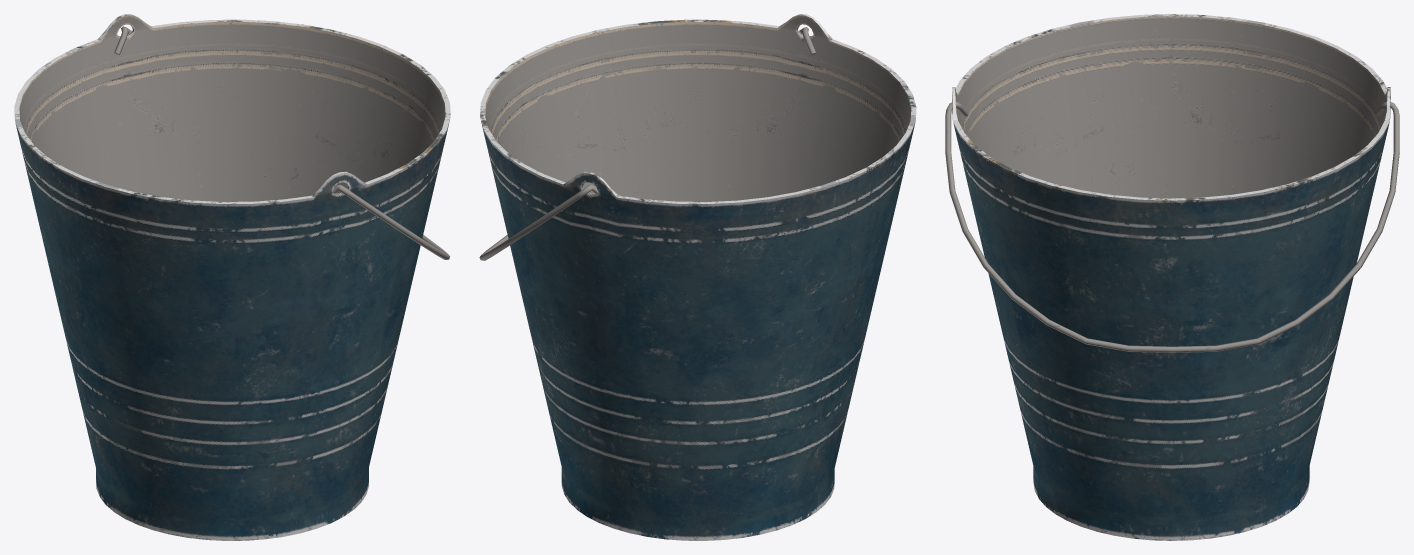
File: Bucket 1.fbx
3 views of the same model, side by side, from view 1: azimuth 30°, elevation 25°; view 2: azimuth 150°, elevation 25°; view 3: azimuth 270°, elevation 25° (orthographic).
Parts seen in each view (by area): view 1: Kova1; view 2: Kova1; view 3: Kova1.
Part boxes in pixels (x1,y1,x2,y2): Kova1: (14,14,450,540); Kova1: (479,14,916,540); Kova1: (945,14,1399,540).
Size of the model in its own units: 1.07 by 1.05 by 1.1.
1 material, 1 textured.
